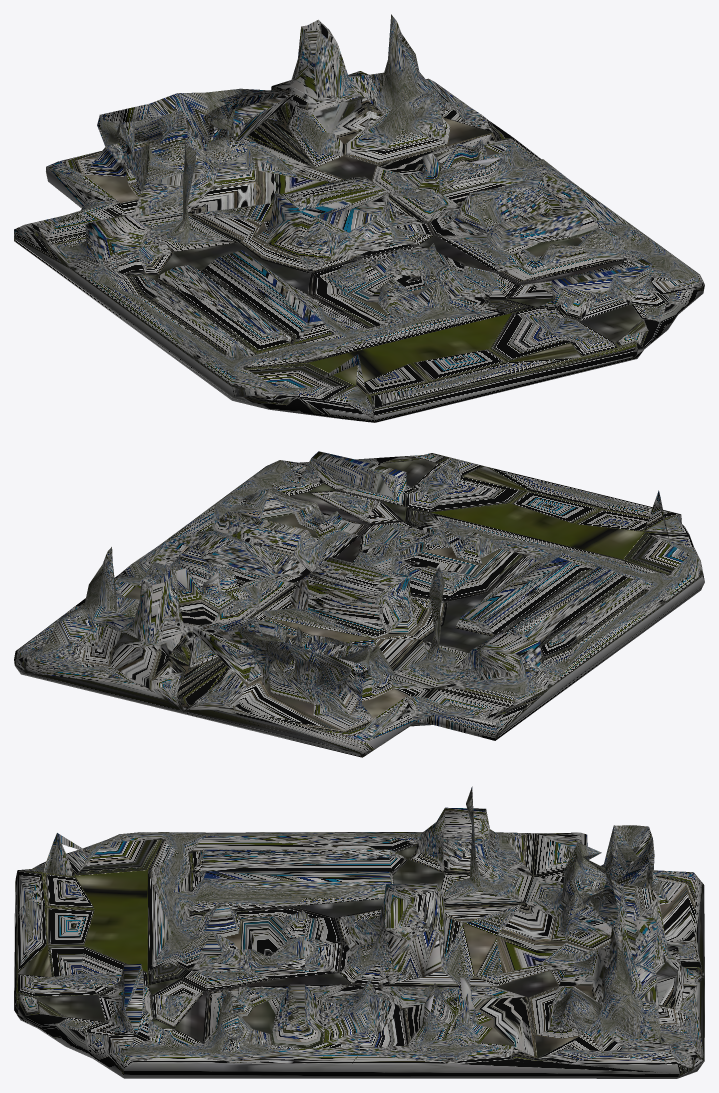
The model's file is Factory_LOD2.fbx.
The picture shows the model from 3 angles, top to bottom: view 1: azimuth 30°, elevation 25°; view 2: azimuth 150°, elevation 25°; view 3: azimuth 270°, elevation 25°; orthographic projection. The views are drawn at different scales.
Parts seen in each view (by area): view 1: Factory_LOD2; view 2: Factory_LOD2; view 3: Factory_LOD2.
Boxes of the visible parts, <box> form: Factory_LOD2: <box>14,14,704,422</box>; Factory_LOD2: <box>14,451,704,757</box>; Factory_LOD2: <box>14,786,704,1078</box>.
Bounding box in the file's own units: 128 × 31.71 × 160.
